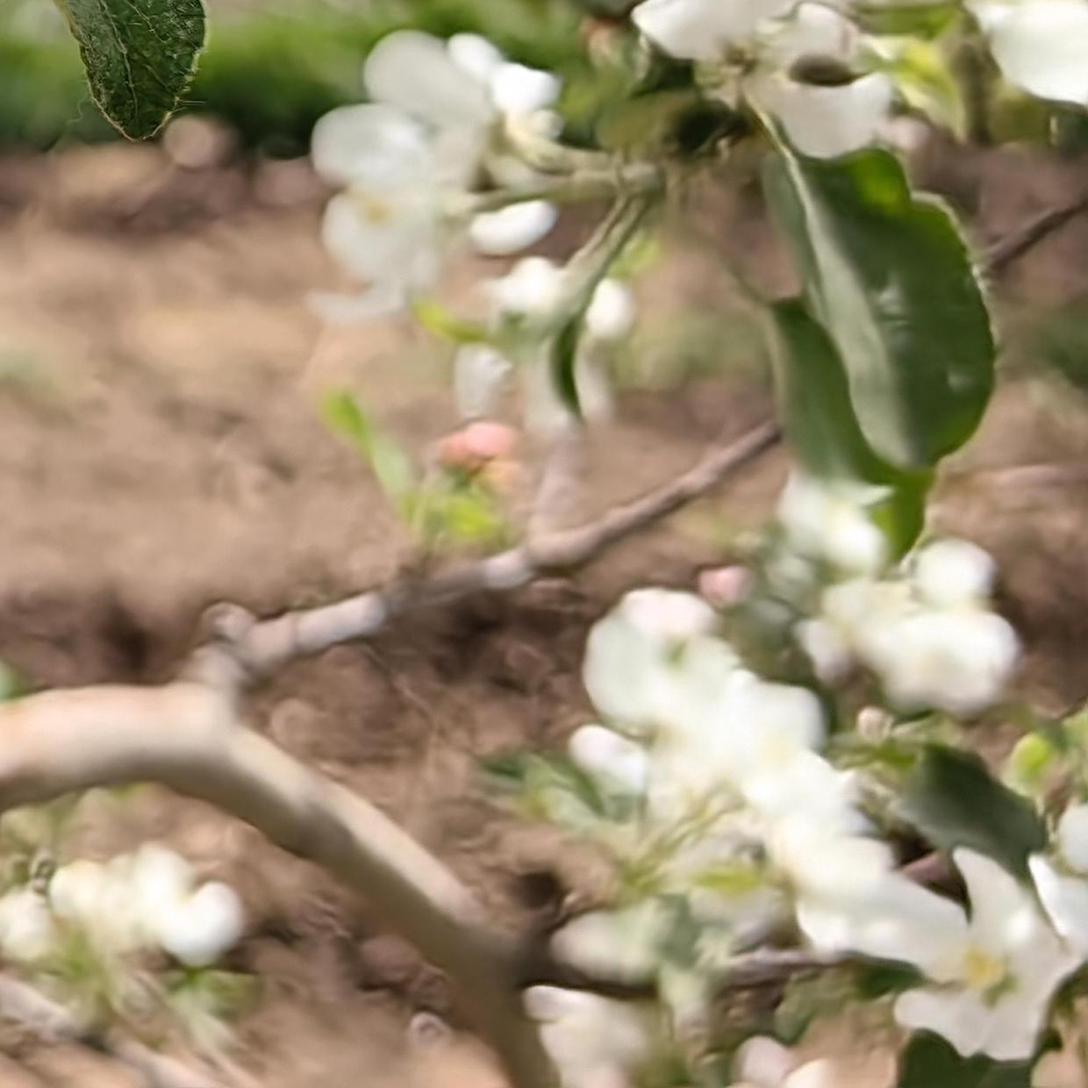apple_flower: (316, 29, 583, 319), (804, 852, 1086, 1064), (640, 0, 863, 62)
